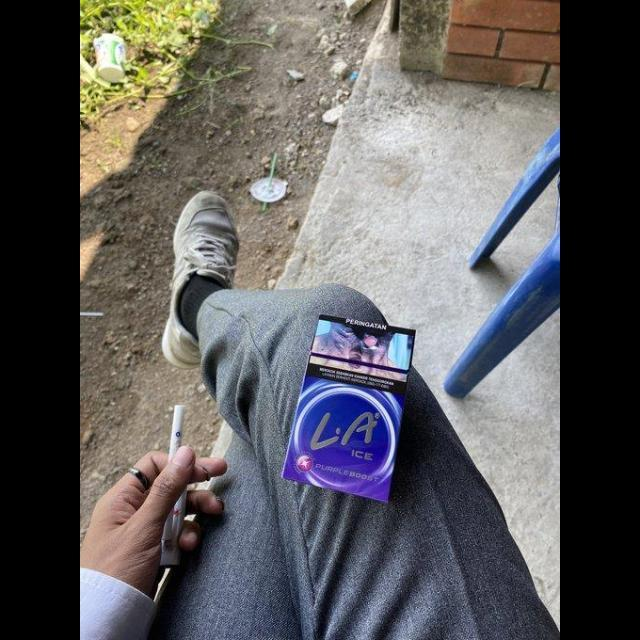rokok: (164, 400, 186, 568)
